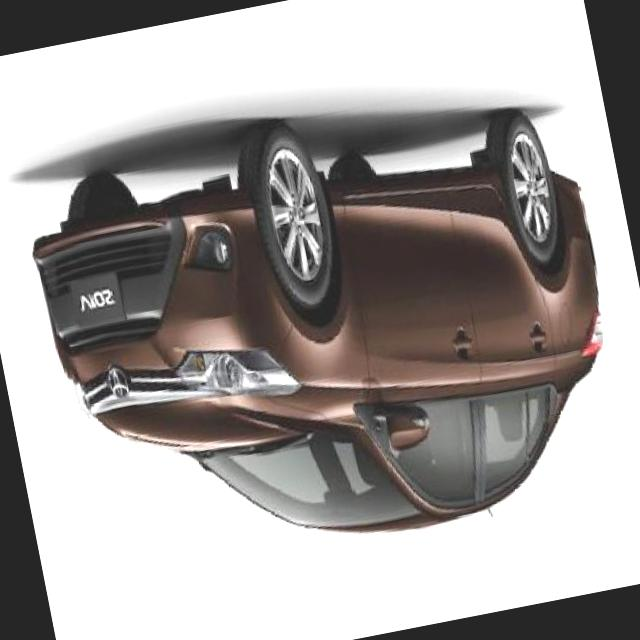ToyotaVios: (15, 64, 640, 595)
